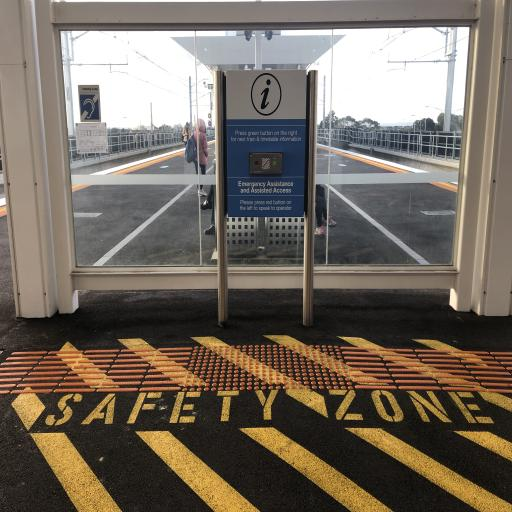Obstruction: (217, 74, 319, 323)
tgsi: (2, 348, 512, 391)
